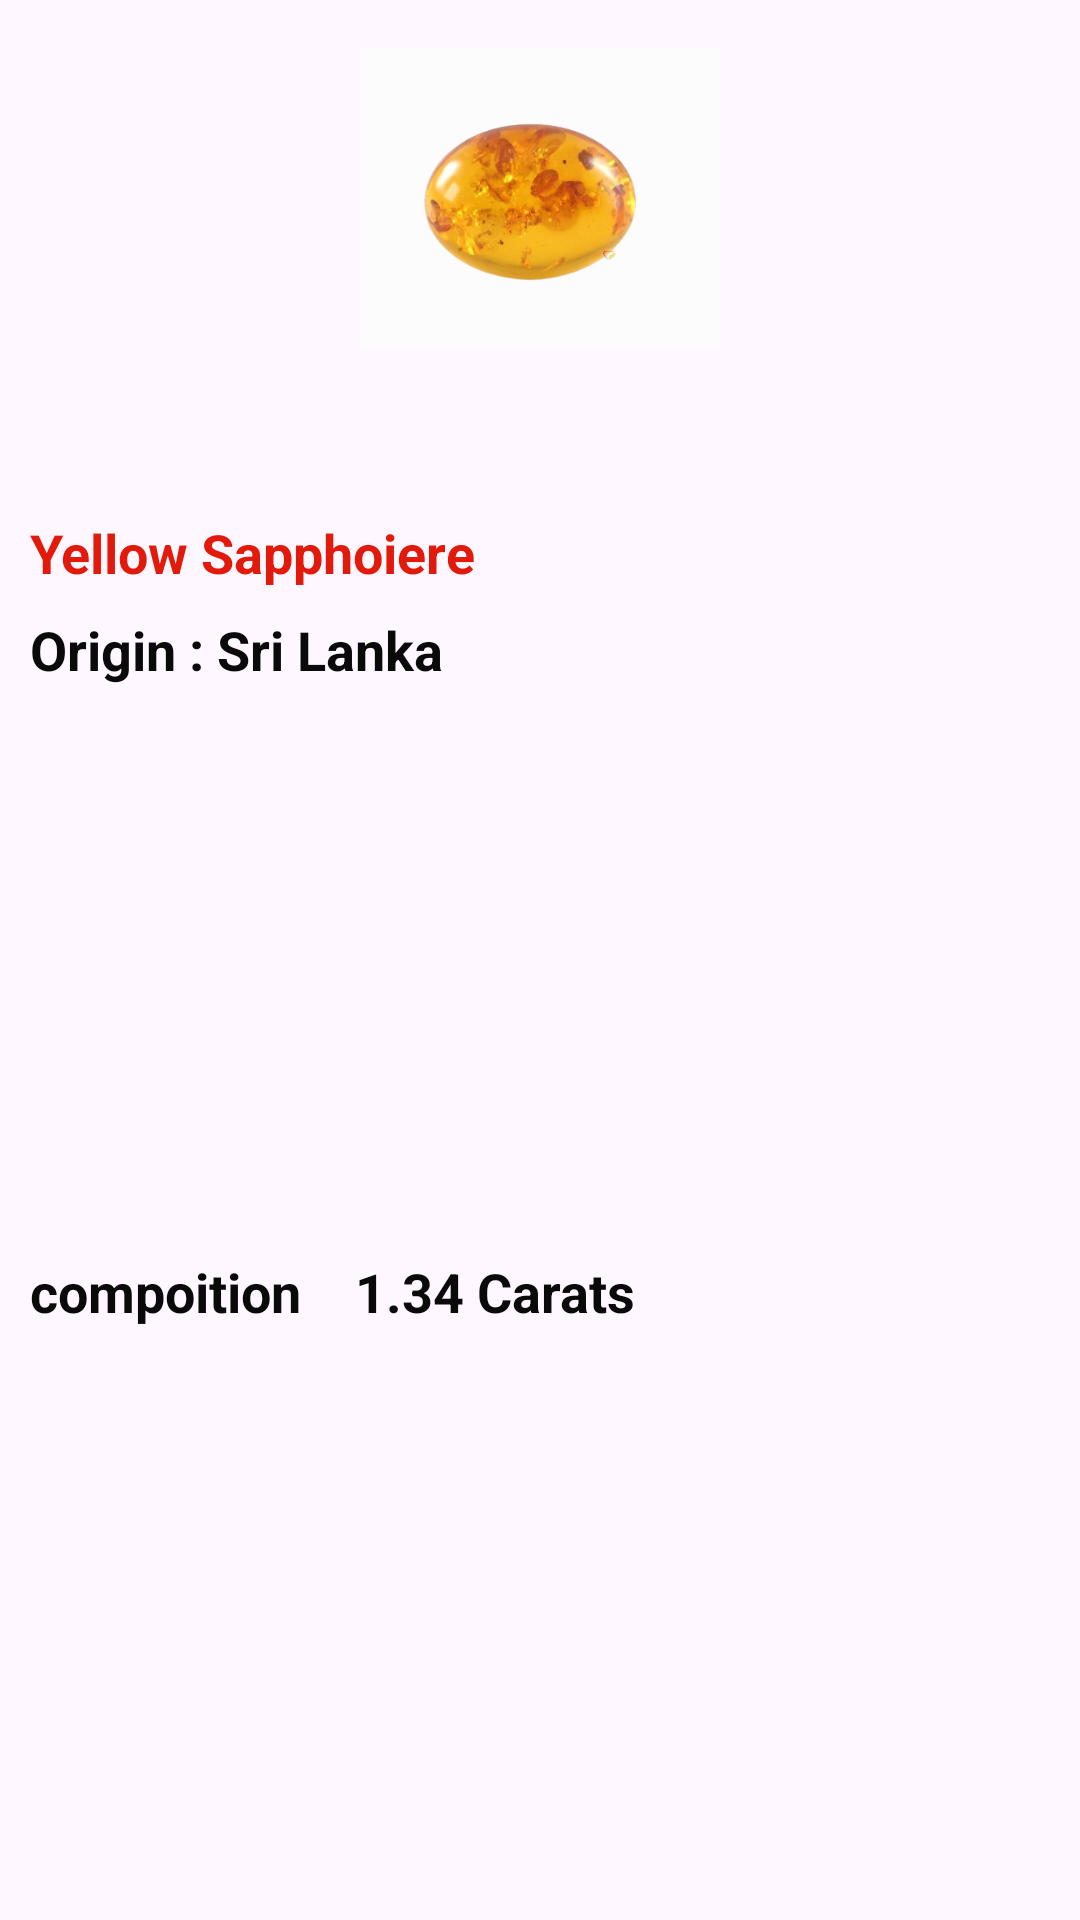

Named icons in this screenshot (1080 x 1920) and their bounding boxes, BBox(x1, y1, x2, y2):
amber: BBox(424, 124, 636, 280)
